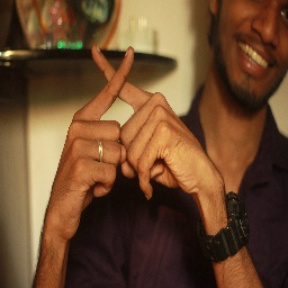X: (69, 38, 171, 140)
